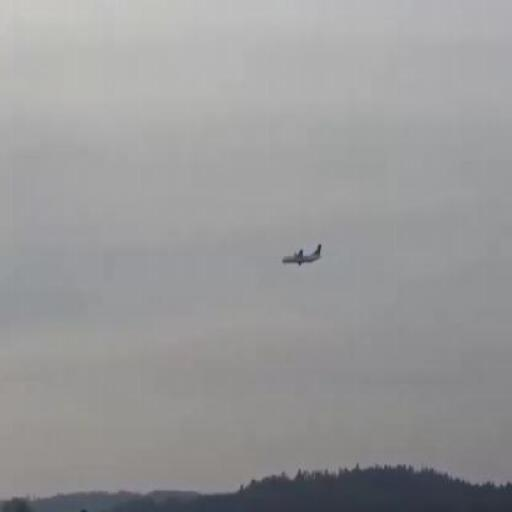aircraft: (282, 243, 322, 267)
